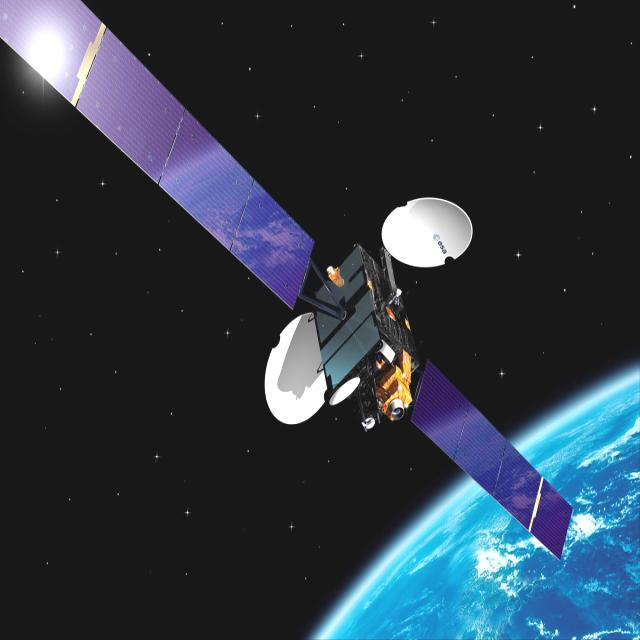satellite: (0, 0, 581, 568)
